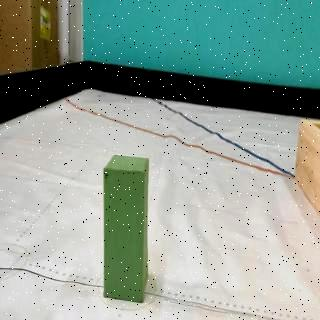greenbox: (104, 154, 148, 305)
